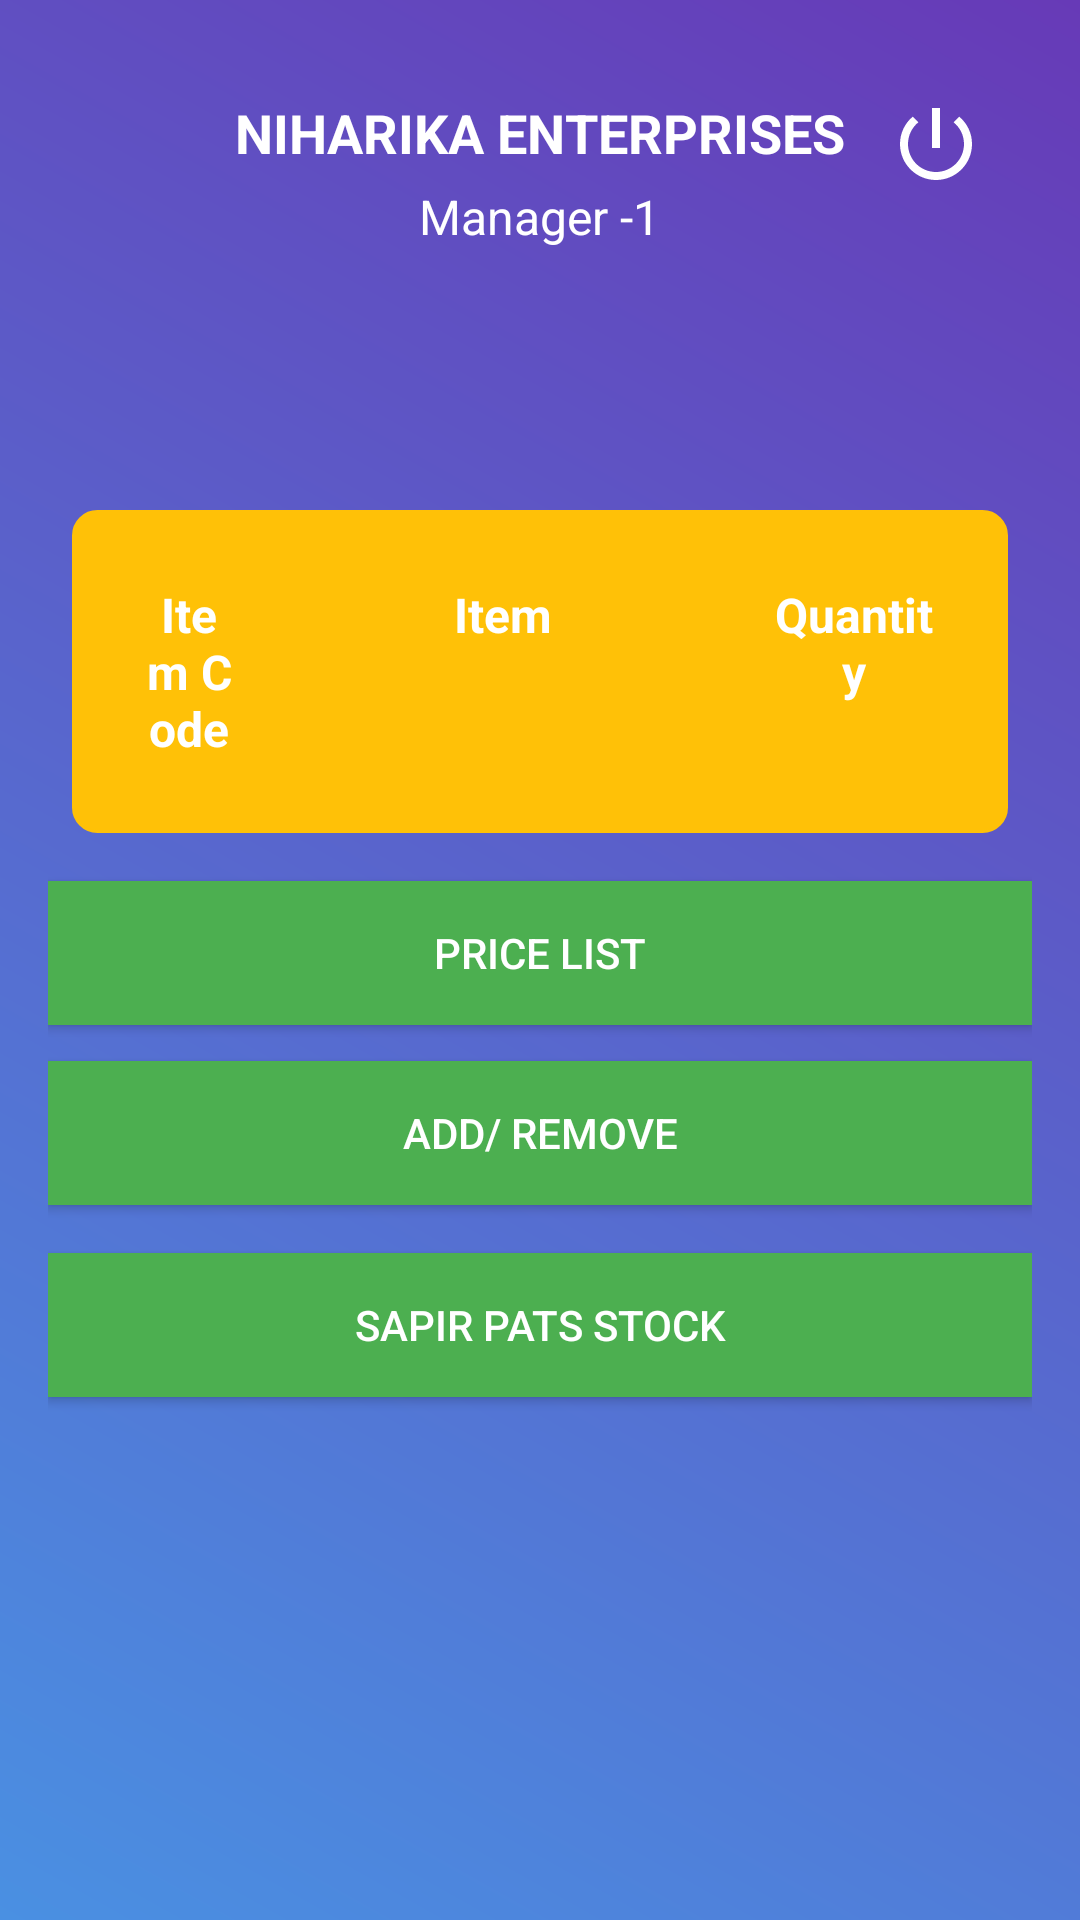

Icon click points for this 1080×1920 phone screenshot, format (x=x, y=y):
power: (x=936, y=144)
